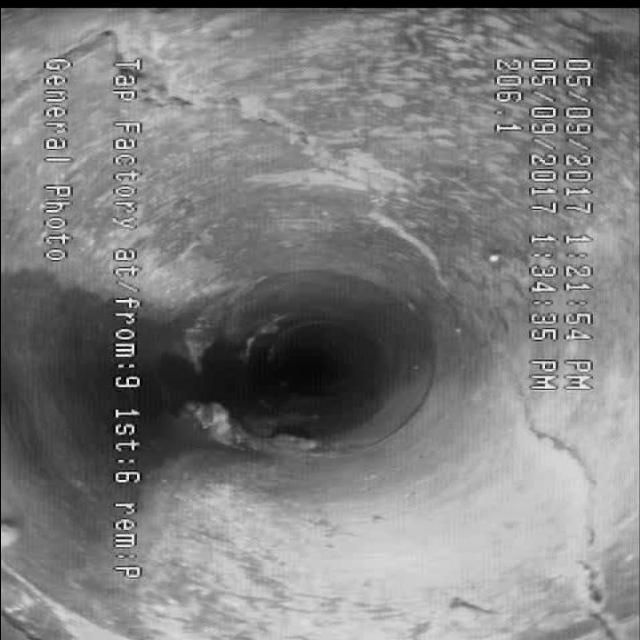Fracture: (479, 382, 629, 576), (172, 70, 375, 200)
